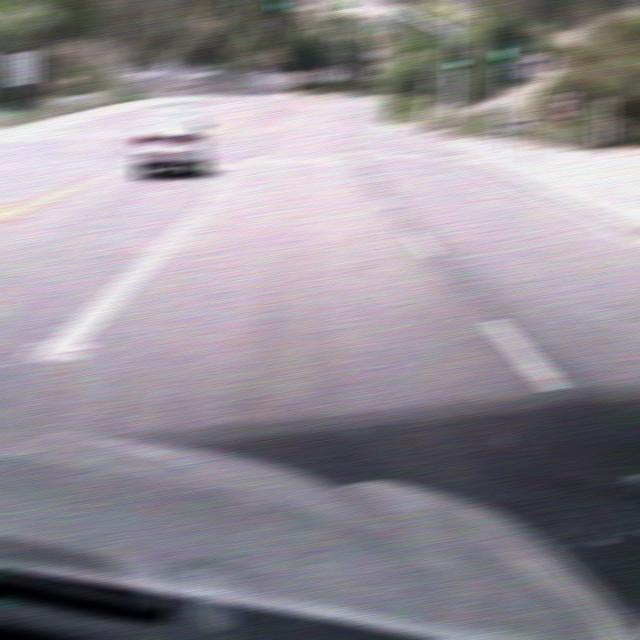noRightTurn: (518, 50, 548, 78)
